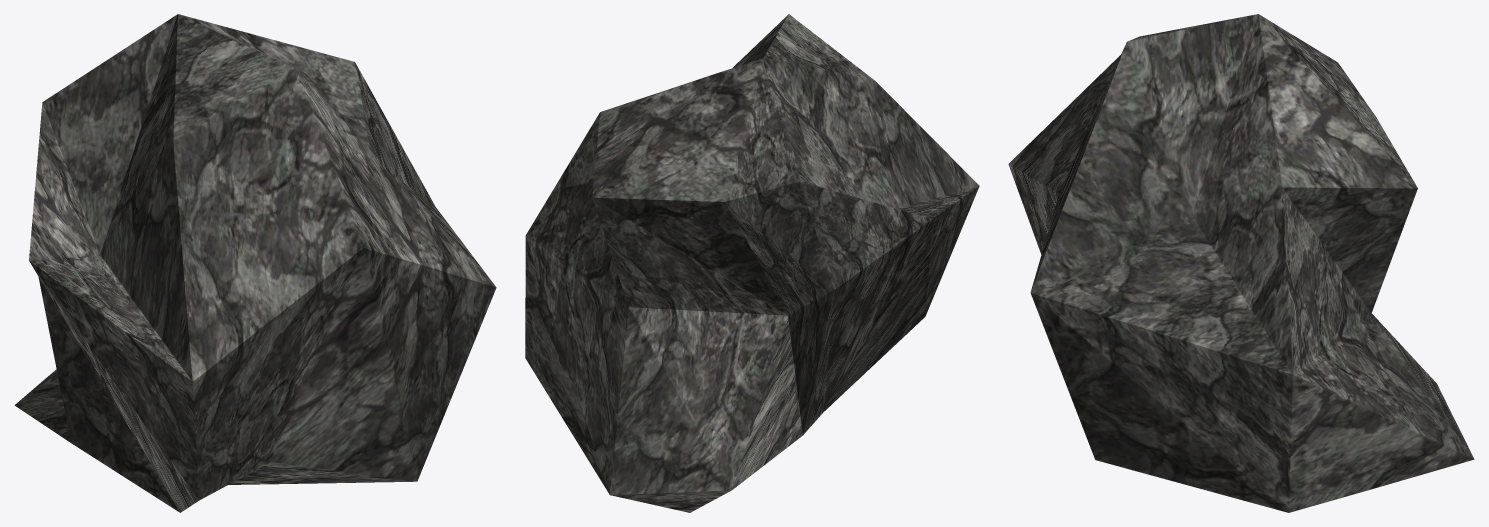
The model's file is C1SNLARGEROCKE_SC.obj.
3 views of the same model, side by side, from view 1: azimuth 30°, elevation 25°; view 2: azimuth 150°, elevation 25°; view 3: azimuth 270°, elevation 25° (orthographic). The views are drawn at different scales.
Visible parts, largest first — view 1: Node 0; view 2: Node 0; view 3: Node 0.
Boxes of the visible parts, x1=… form: Node 0: x1=14, y1=14, x2=496, y2=512; Node 0: x1=525, y1=14, x2=979, y2=512; Node 0: x1=1008, y1=14, x2=1474, y2=512.
Size of the model in its own units: 11.4 by 12.47 by 11.37.
Materials: 1 (1 with a texture image).
